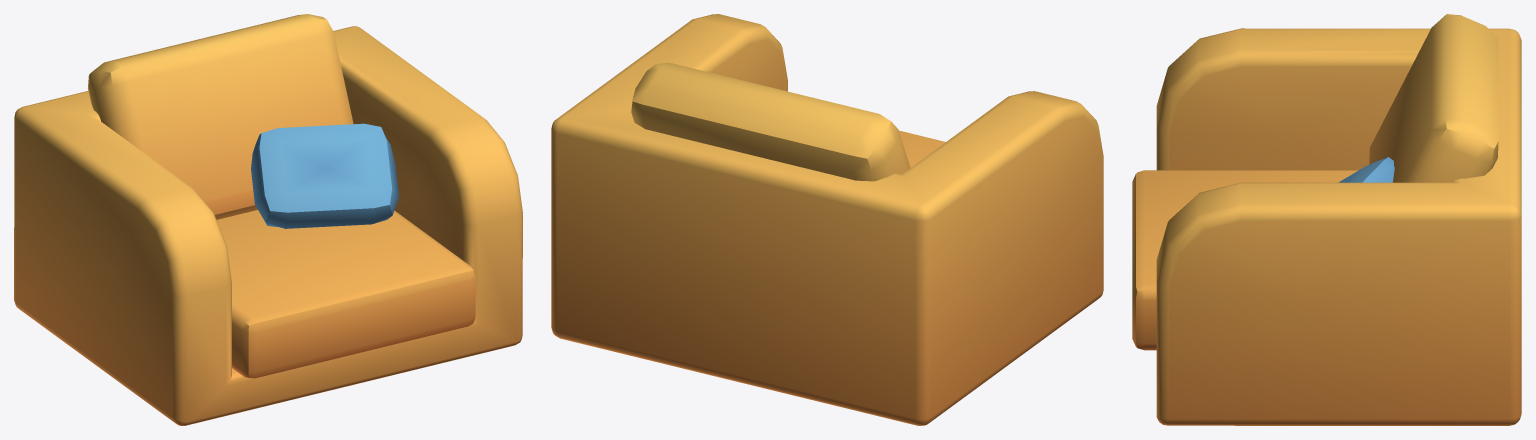
File: armchair_pillows.obj
3 renders of one model, left to right at view 1: azimuth 30°, elevation 25°; view 2: azimuth 150°, elevation 25°; view 3: azimuth 270°, elevation 25°, orthographic. The views are drawn at different scales.
Visible parts, largest first — view 1: armchair_pillows_Plane.003; view 2: armchair_pillows_Plane.003; view 3: armchair_pillows_Plane.003.
Boxes of the visible parts, <box> form: armchair_pillows_Plane.003: <box>14,14,522,425</box>; armchair_pillows_Plane.003: <box>551,14,1103,425</box>; armchair_pillows_Plane.003: <box>1132,14,1521,425</box>.
Bounding box in the file's own units: 1.8 × 1.22 × 1.6.
1 material, 1 textured.
